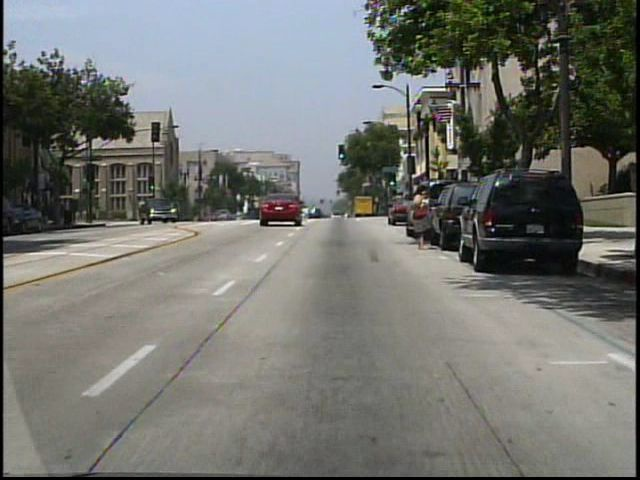person: (409, 182, 440, 250)
